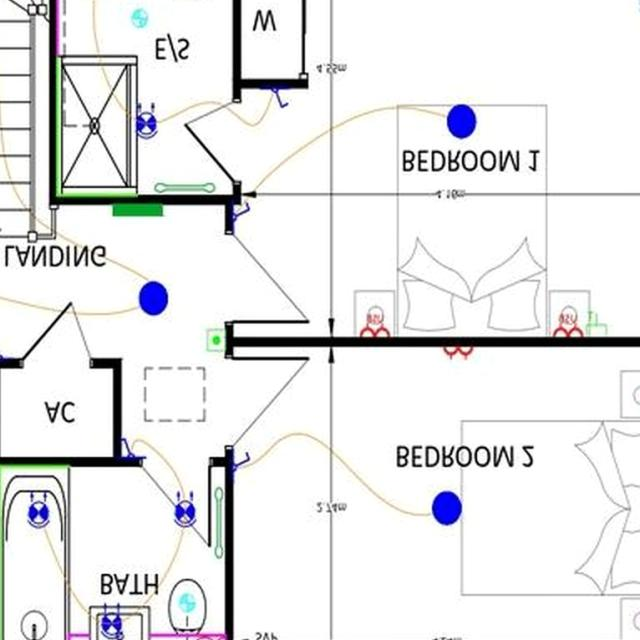Ceiling Mounted Continuous Extract FanWith Boost Mode Activated By Light Switch: (177, 595, 195, 613), (130, 11, 147, 28)
Double Socket: (442, 348, 473, 362)
Full Height Tiling: (0, 466, 74, 640), (54, 57, 139, 198)
Light Switch: (232, 205, 250, 224), (270, 90, 287, 109), (233, 454, 250, 472), (120, 439, 136, 458)
Low Energy Downlighter: (26, 493, 49, 530), (100, 604, 122, 640), (174, 493, 195, 528), (136, 104, 156, 140)
Low Energy Pendant Light: (432, 492, 462, 526), (138, 282, 168, 316), (447, 105, 475, 140)
Programmable Room Thermostat: (205, 330, 224, 353)
Radiator: (112, 205, 162, 217)
Telephone Socket: (584, 312, 606, 338)
USB Double Socket: (358, 315, 390, 338), (551, 316, 584, 338)
